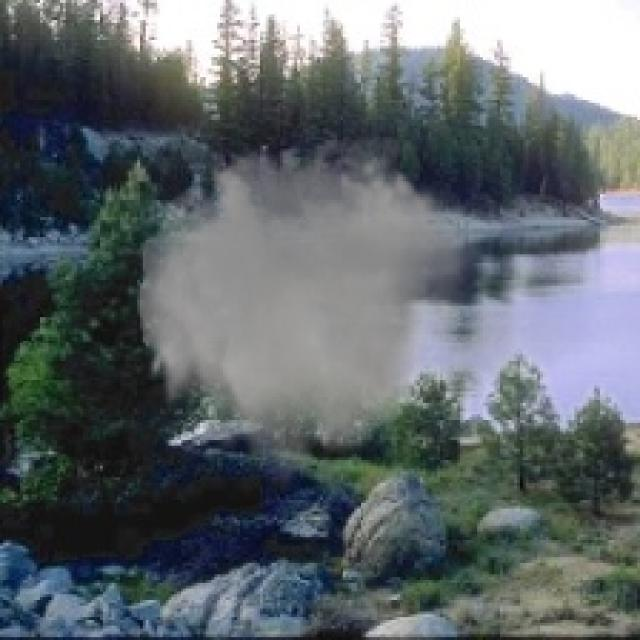smoke: (129, 120, 494, 497)
